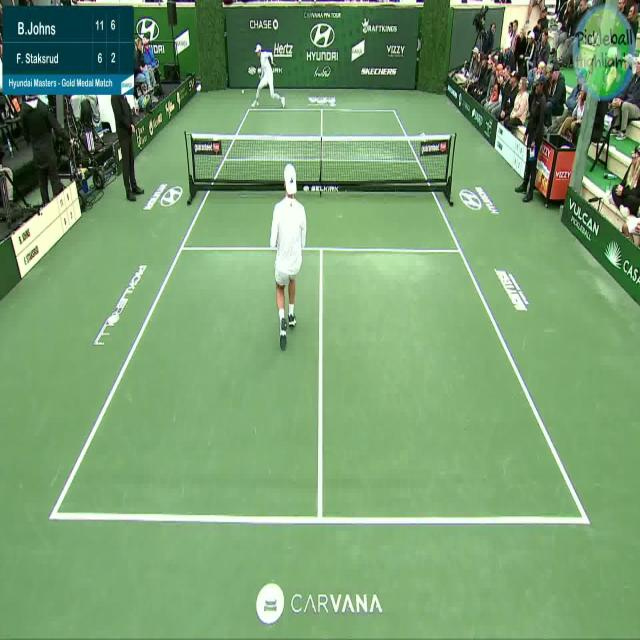ball: (238, 80, 251, 106)
